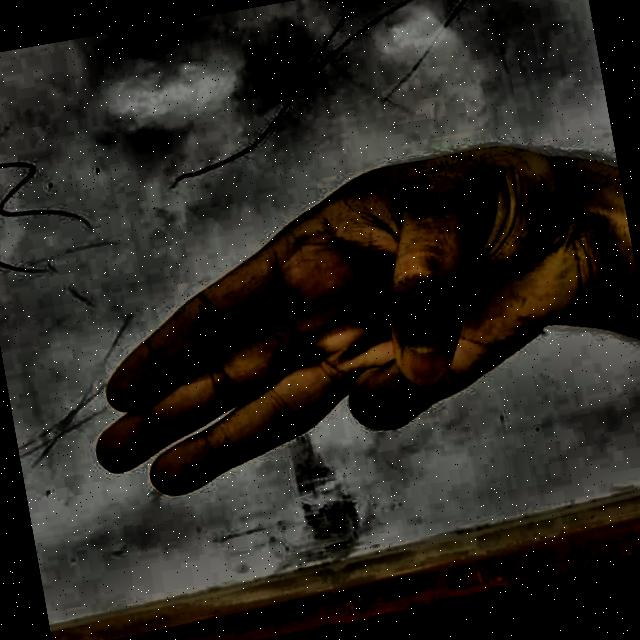Ma: (35, 91, 640, 535)
